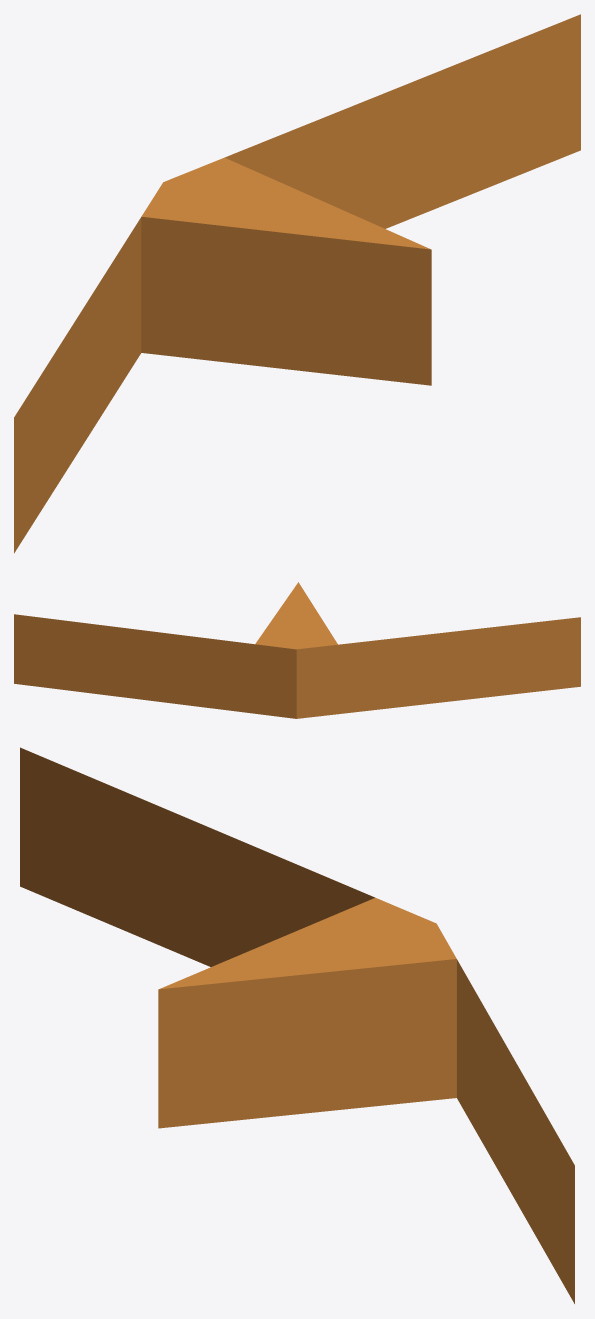
3 views of the same model, one above another, from view 1: azimuth 30°, elevation 25°; view 2: azimuth 150°, elevation 25°; view 3: azimuth 270°, elevation 25° (orthographic). The views are drawn at different scales.
Parts seen in each view (by area): view 1: CORNER-A-28-p1; view 2: CORNER-A-28-p1; view 3: CORNER-A-28-p1.
Boxes of the visible parts, x1,y1,x2,y2 form: CORNER-A-28-p1: [14, 14, 580, 553]; CORNER-A-28-p1: [14, 582, 580, 718]; CORNER-A-28-p1: [20, 747, 574, 1303].
Bounding box in the file's own units: 0.29 × 0.045 × 0.1627.
